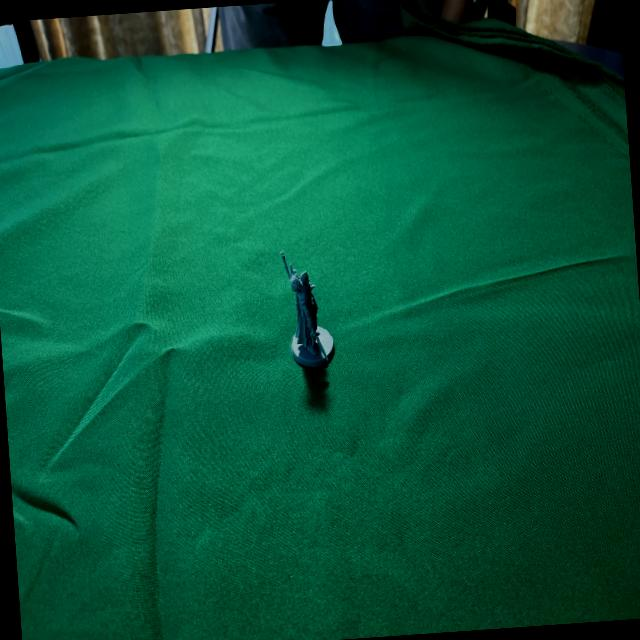isis_follower: (278, 246, 337, 371)
